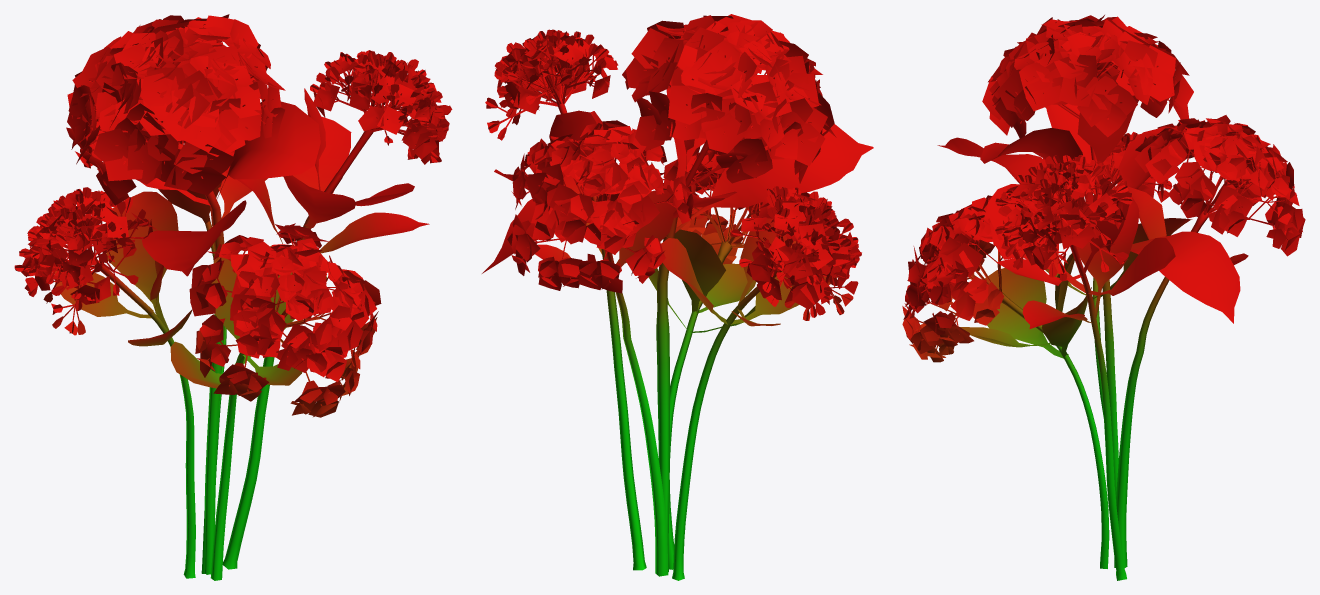
Rendered from Var12_LOD1.fbx.
The picture shows the model from 3 angles, left to right: view 1: azimuth 30°, elevation 25°; view 2: azimuth 150°, elevation 25°; view 3: azimuth 270°, elevation 25°; orthographic projection. The views are drawn at different scales.
Visible parts, largest first — view 1: _a50f_Var12_LOD1; view 2: _a50f_Var12_LOD1; view 3: _a50f_Var12_LOD1.
Part boxes in pixels (<box>): _a50f_Var12_LOD1: <box>14,14,452,580</box>; _a50f_Var12_LOD1: <box>482,14,873,580</box>; _a50f_Var12_LOD1: <box>902,15,1305,580</box>.
Size of the model in its own units: 36.47 by 50.82 by 35.22.
